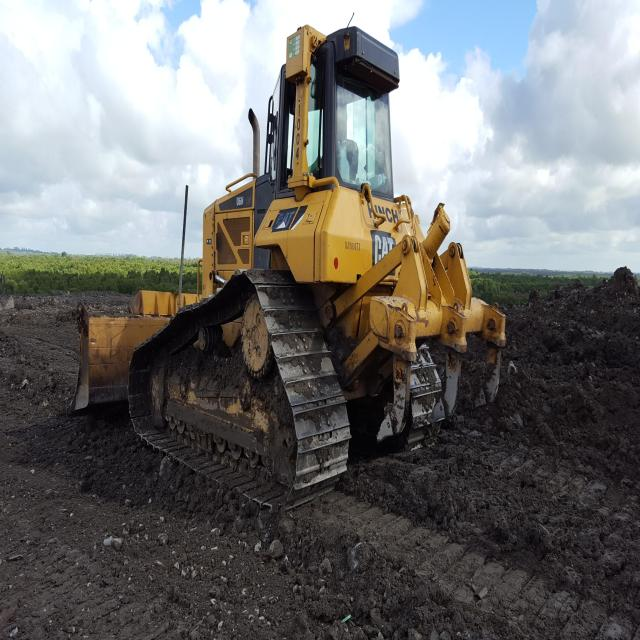buldozerpayloadergrader: (70, 16, 516, 522)
